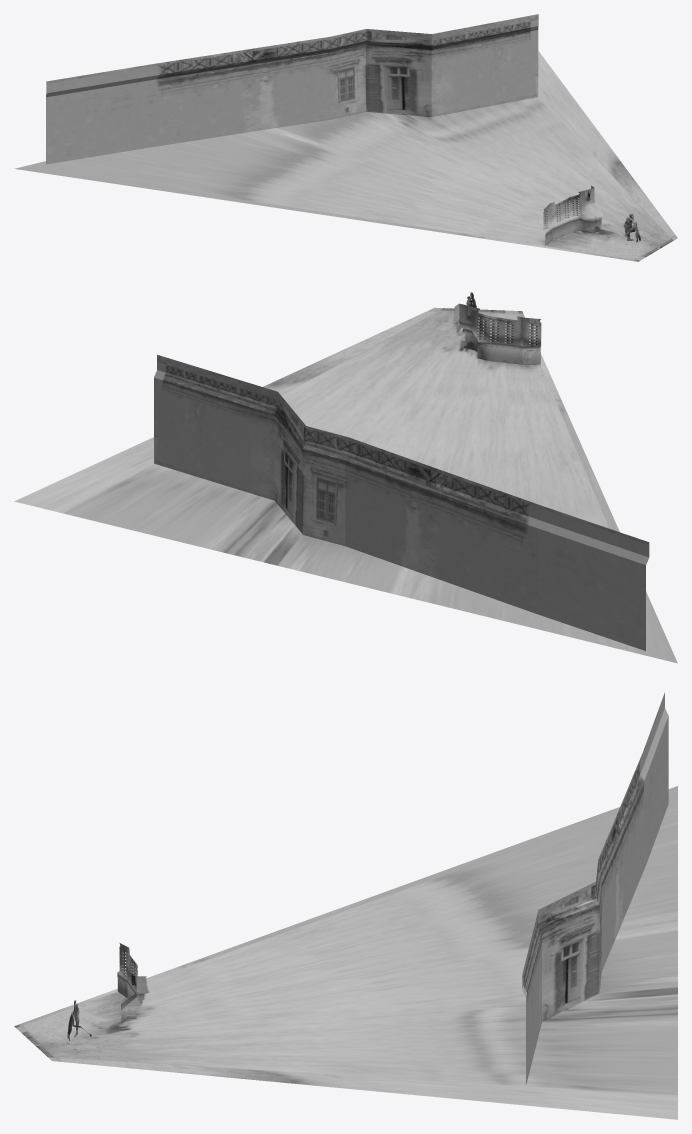
3 views of the same model, one above another, from view 1: azimuth 30°, elevation 25°; view 2: azimuth 150°, elevation 25°; view 3: azimuth 270°, elevation 25° (orthographic). The views are drawn at different scales.
Visible parts, largest first — view 1: scene; view 2: scene; view 3: scene.
Boxes of the visible parts, x1=… form: scene: x1=14, y1=14, x2=677, y2=261; scene: x1=14, y1=292, x2=677, y2=663; scene: x1=14, y1=692, x2=677, y2=1119.
Bounding box in the file's own units: 35.94 × 5.68 × 30.2.
1 material, 1 textured.
